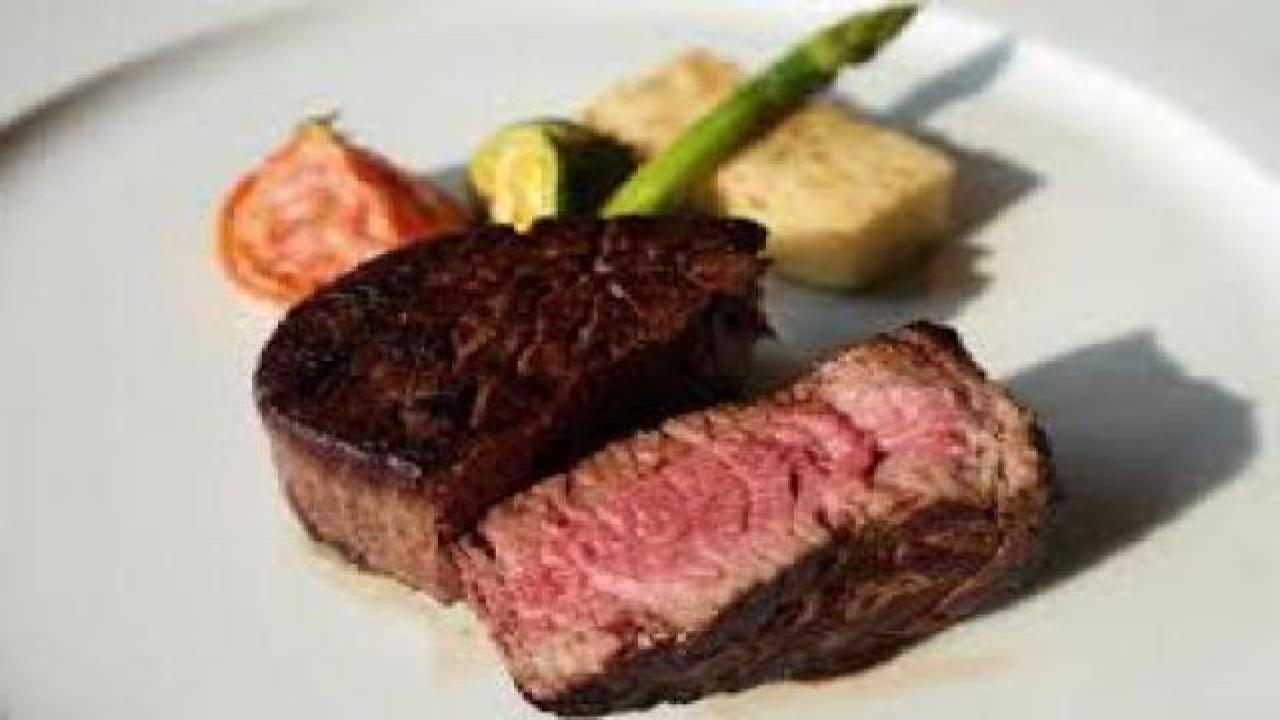done: (226, 197, 770, 524)
raw: (496, 352, 1097, 717)
